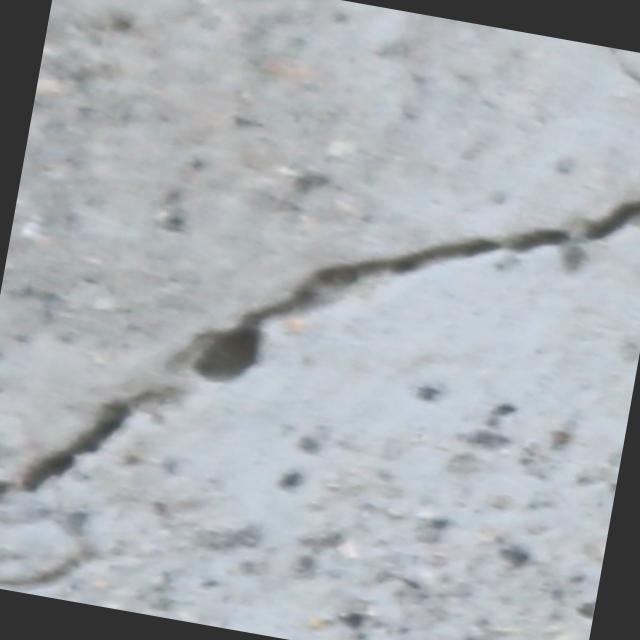crack: (5, 83, 640, 586), (0, 476, 104, 604), (593, 46, 640, 131)
